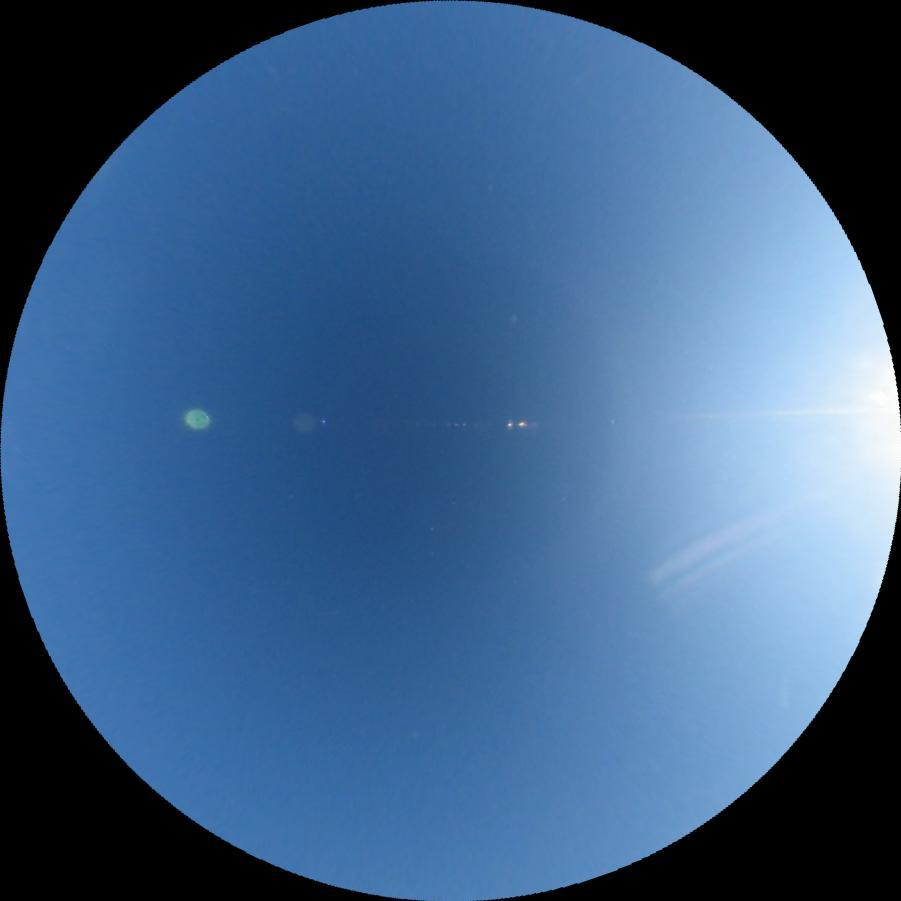parasite: (644, 500, 788, 587), (686, 407, 861, 420)
